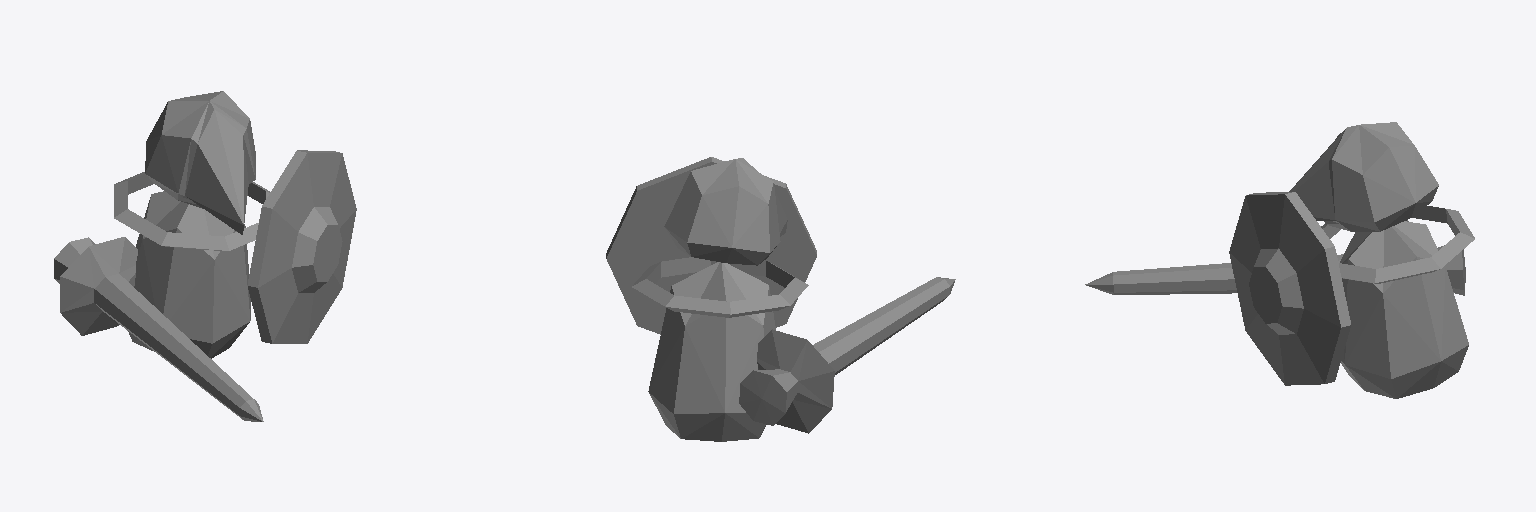
The picture shows the model from 3 angles: view 1: azimuth 30°, elevation 25°; view 2: azimuth 150°, elevation 25°; view 3: azimuth 270°, elevation 25°; orthographic projection.
Parts seen in each view (by area): view 1: meshMinion; view 2: meshMinion; view 3: meshMinion.
Part boxes in pixels (bbox=[...]): meshMinion: bbox=[54, 91, 356, 421]; meshMinion: bbox=[606, 157, 955, 441]; meshMinion: bbox=[1085, 122, 1474, 398].
Bounding box in the file's own units: 109 × 101 × 140.